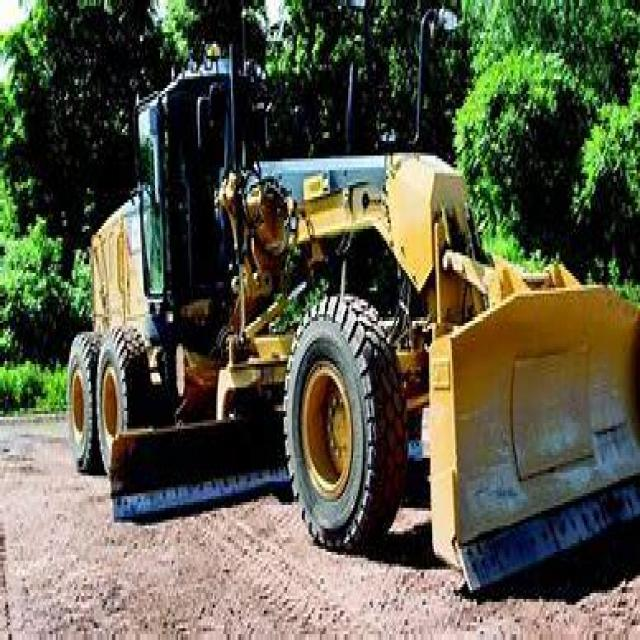Grader: (59, 47, 638, 584)
